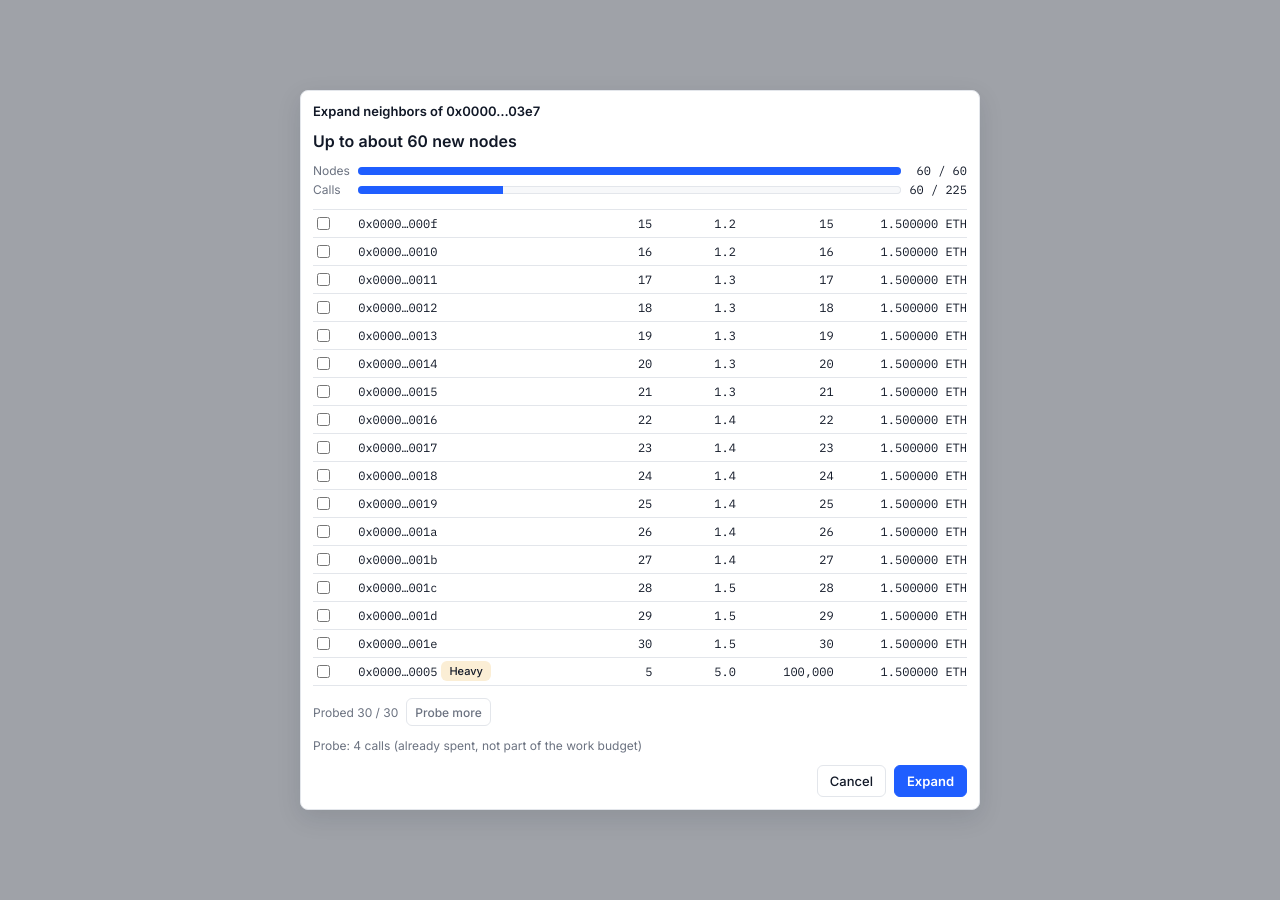
the lightest non-heavy wallets are checked by default; checking a Heavy one warns but does not block
(page scrolled)
Expected: the text "Probed 30 / 30" is shown, [313, 704, 398, 720]
Expected: the text "over the canvas budget" is not shown
Click the checkbox named "0x0000000000000000000000000000000000000005".
click(324, 671)  # box [317, 664, 330, 678]
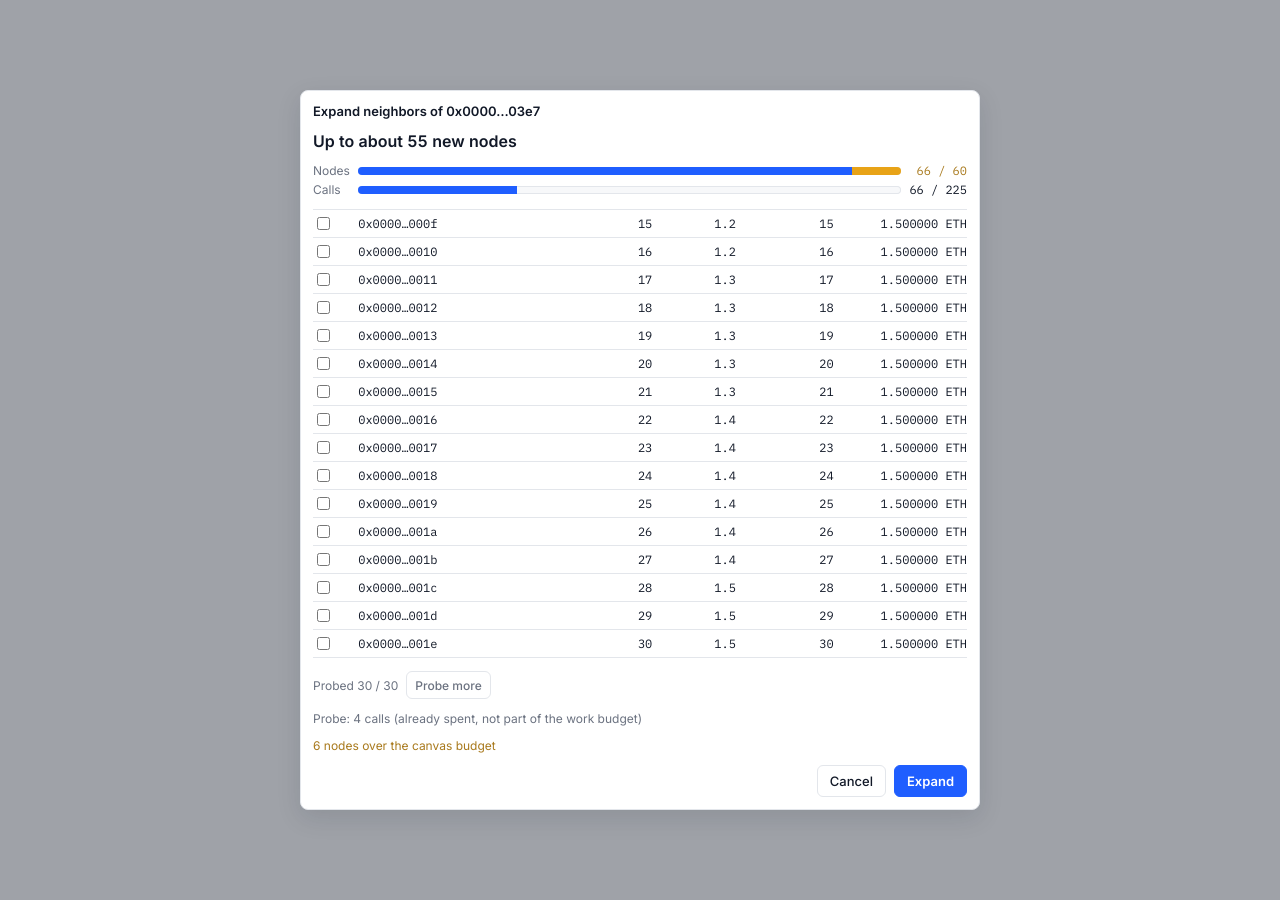
Expected: the button "Expand" is enabled, [894, 765, 967, 797]
Now the text "6 nodes over the canvas budget" is shown, box [313, 738, 496, 753]
